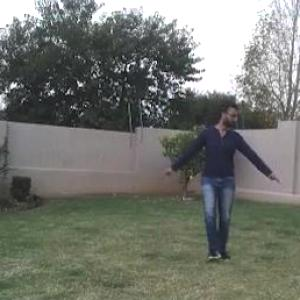land: (149, 86, 295, 279)
